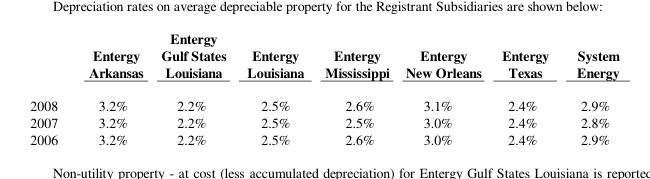table: (29, 28, 619, 147)
table column: (397, 28, 491, 147), (151, 28, 235, 147), (313, 28, 397, 147), (72, 28, 151, 147), (235, 28, 313, 147), (491, 28, 562, 147), (562, 28, 619, 147), (29, 28, 72, 147)
table column header: (29, 28, 619, 88)
table row: (29, 28, 619, 88), (29, 88, 619, 113), (29, 113, 619, 130), (29, 130, 619, 147)
